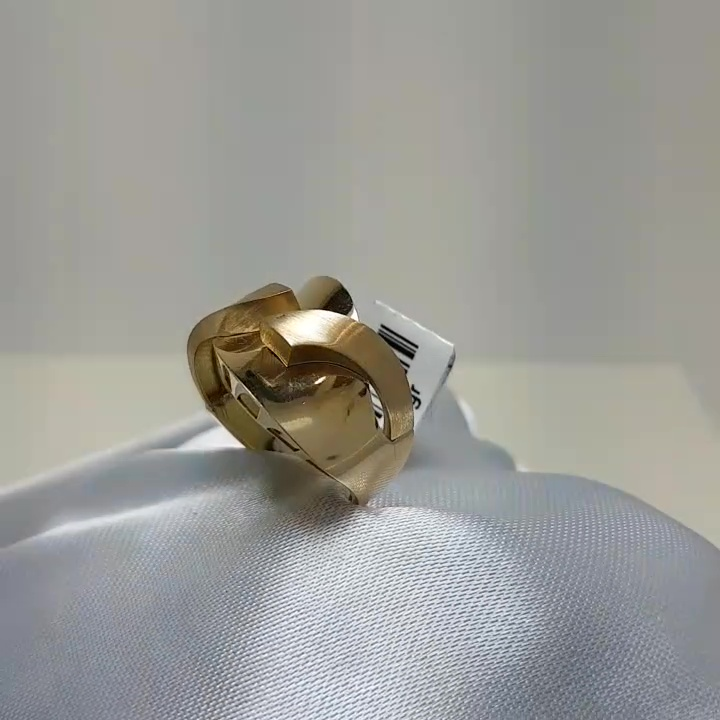Ring 4: (177, 269, 419, 522)
